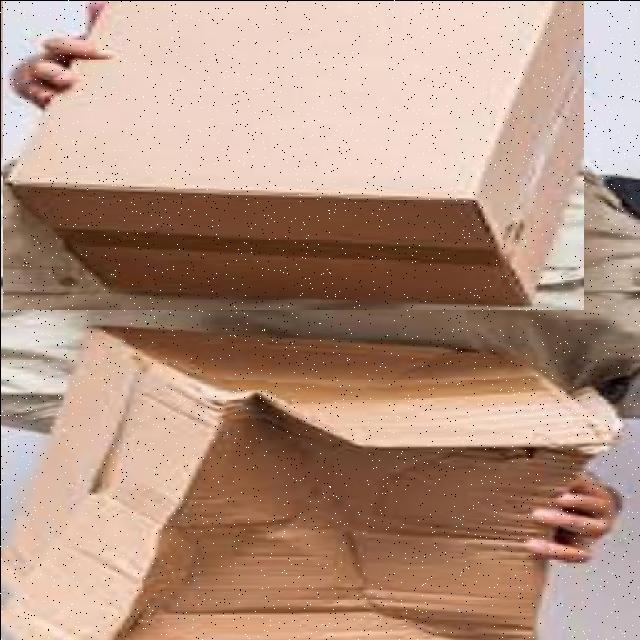defect: (2, 318, 626, 638)
normal: (2, 0, 583, 309)
